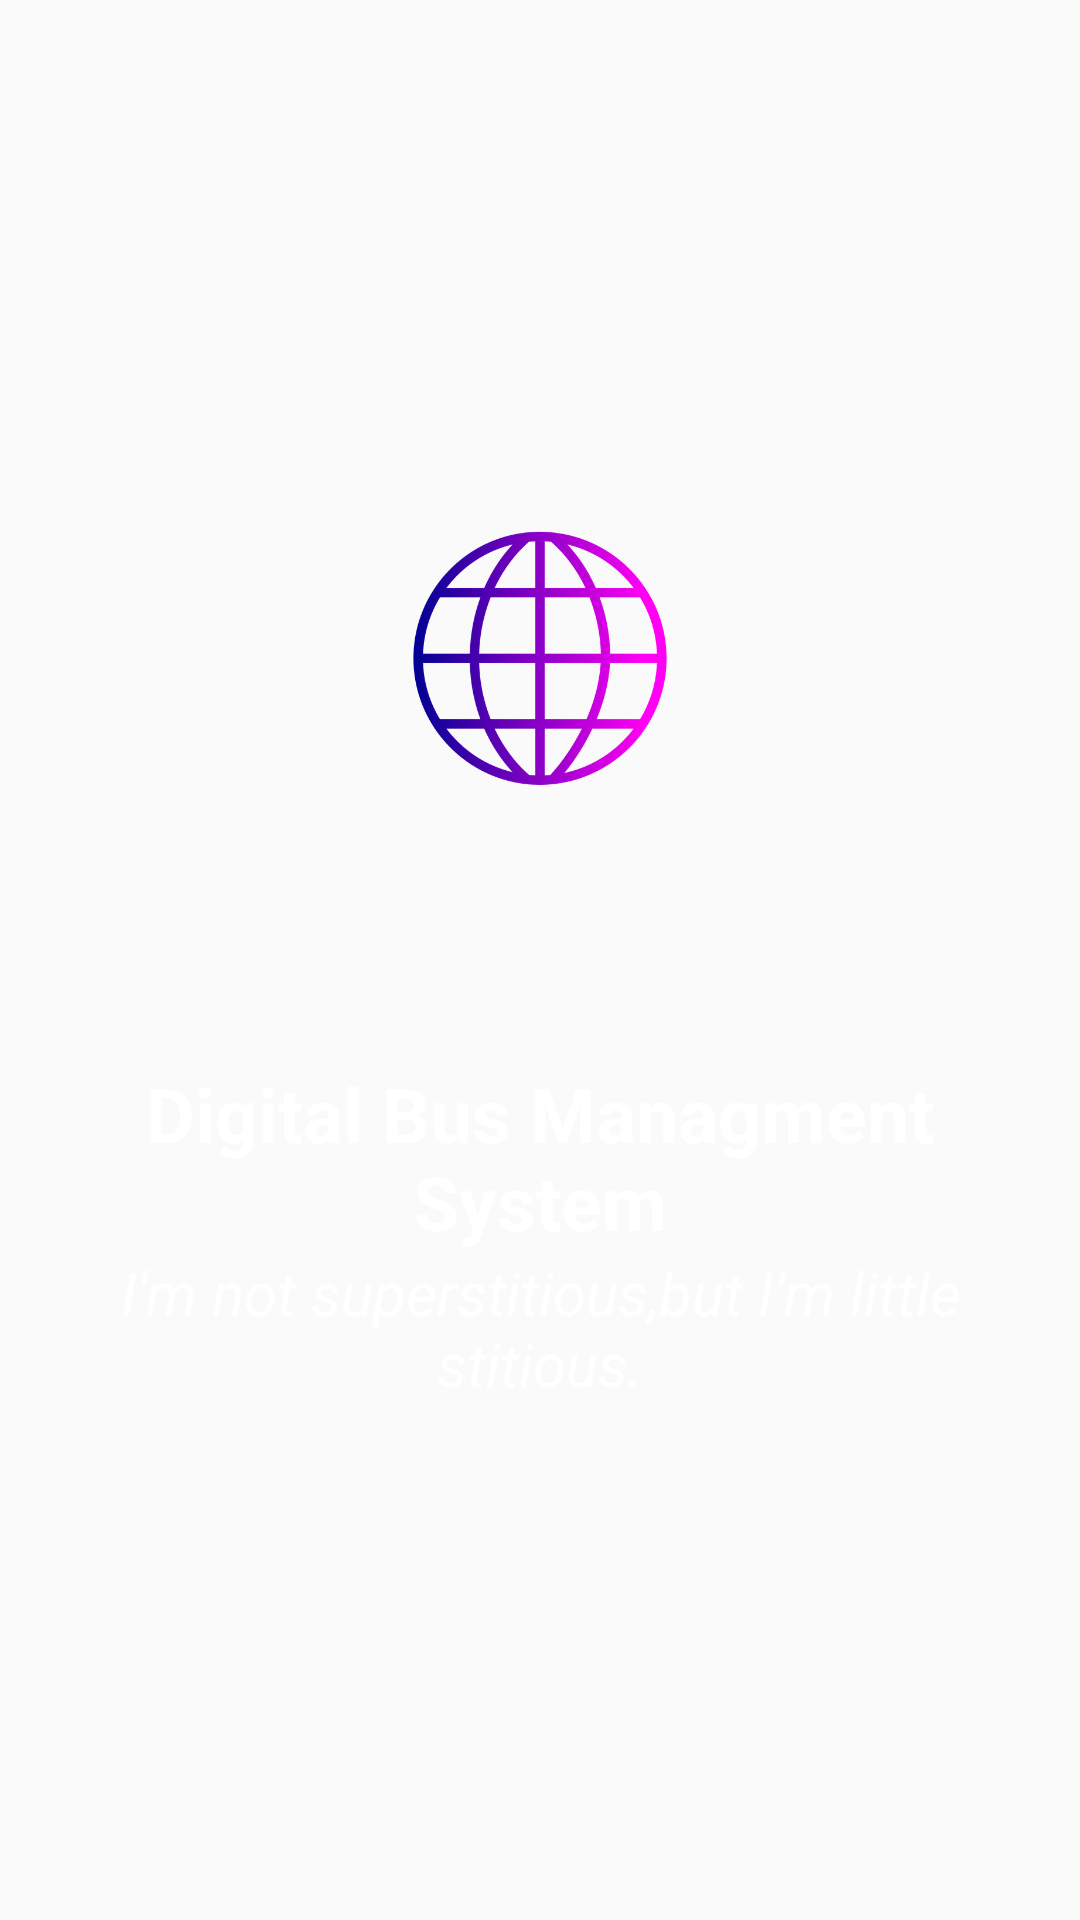

Where to tap for icons on this 1080px x 1920px app screen, as (x=x, y=y):
globe: (x=540, y=658)
